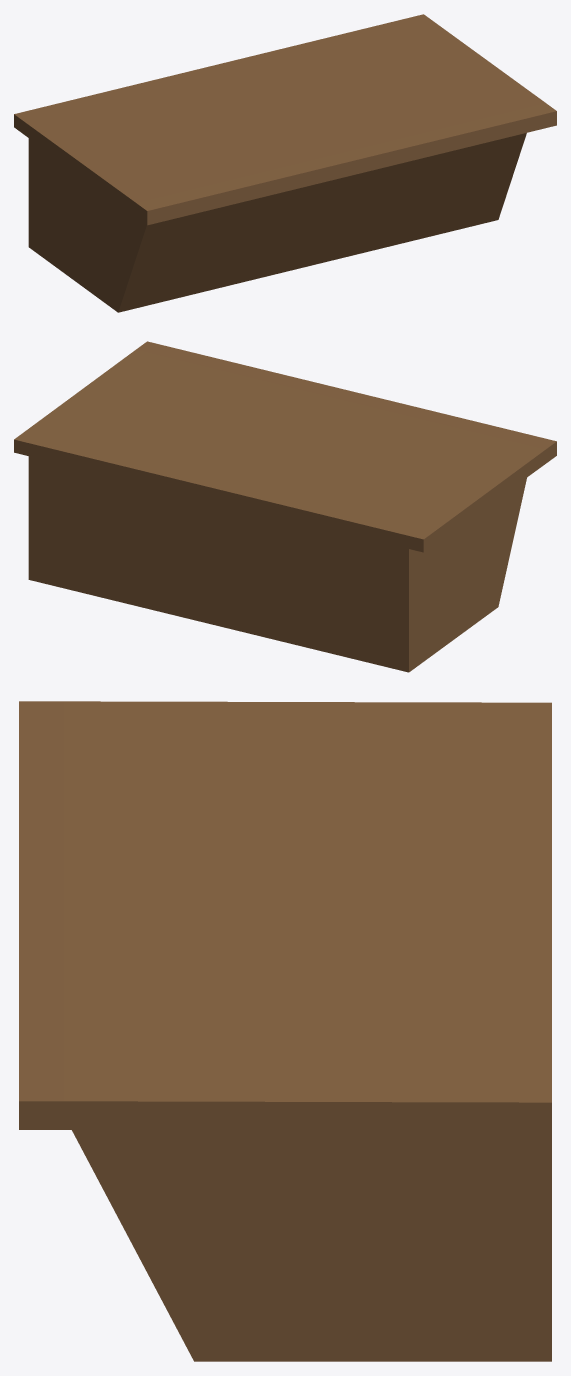
The model's file is Market_Table_01.fbx.
The picture shows the model from 3 angles, top to bottom: view 1: azimuth 30°, elevation 25°; view 2: azimuth 150°, elevation 25°; view 3: azimuth 270°, elevation 25°; orthographic projection. The views are drawn at different scales.
Parts seen in each view (by area): view 1: Market_Table_01; view 2: Market_Table_01; view 3: Market_Table_01.
Boxes of the visible parts, x1=… form: Market_Table_01: x1=14, y1=14, x2=556, y2=312; Market_Table_01: x1=14, y1=341, x2=556, y2=672; Market_Table_01: x1=19, y1=701, x2=551, y2=1361.
Size of the model in its own units: 2.12 by 0.6779 by 1.19.
